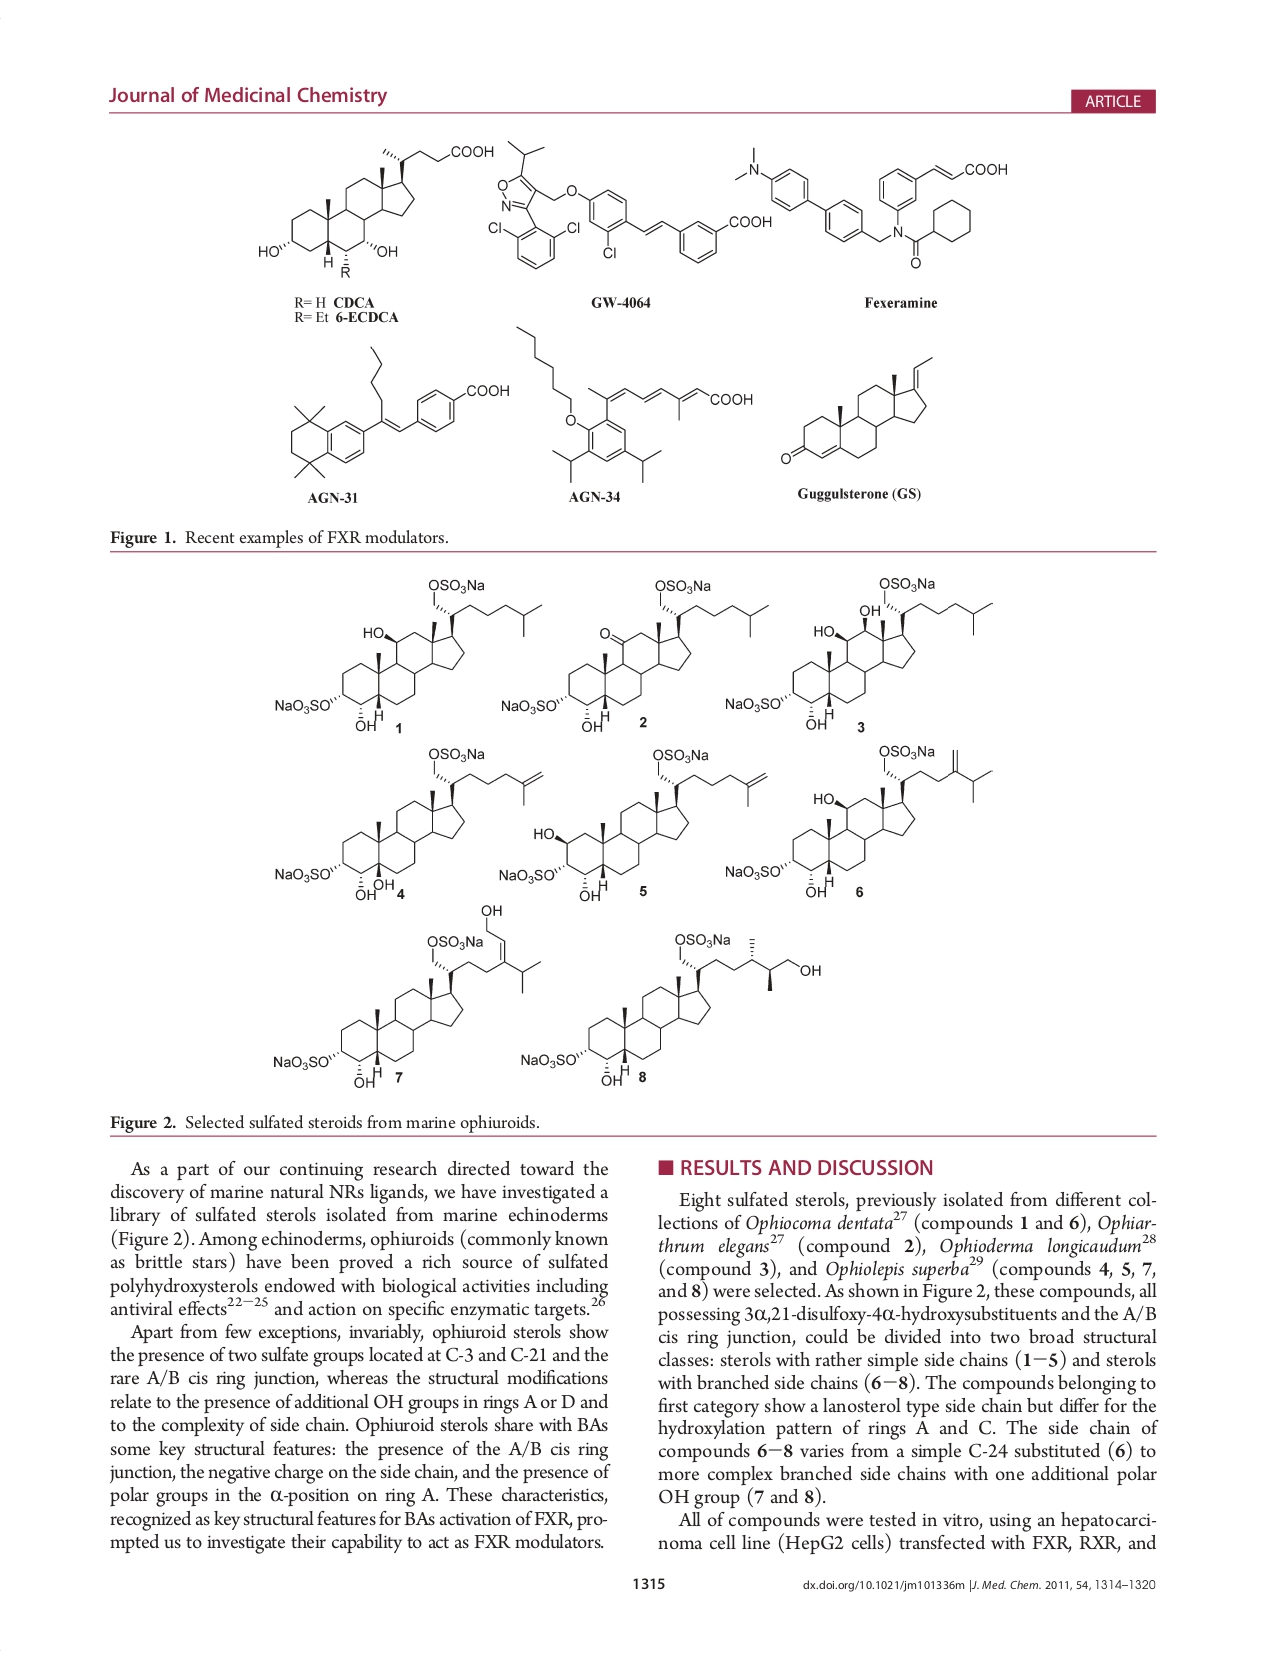exist_molecular: (267, 902, 545, 1091), (519, 930, 824, 1091), (271, 745, 547, 902), (497, 747, 771, 904), (722, 742, 993, 900), (723, 575, 995, 731), (273, 578, 544, 734), (497, 578, 770, 733), (511, 322, 761, 488), (487, 136, 777, 273), (733, 141, 1011, 273), (251, 144, 497, 282), (287, 342, 513, 483), (775, 354, 938, 467)
